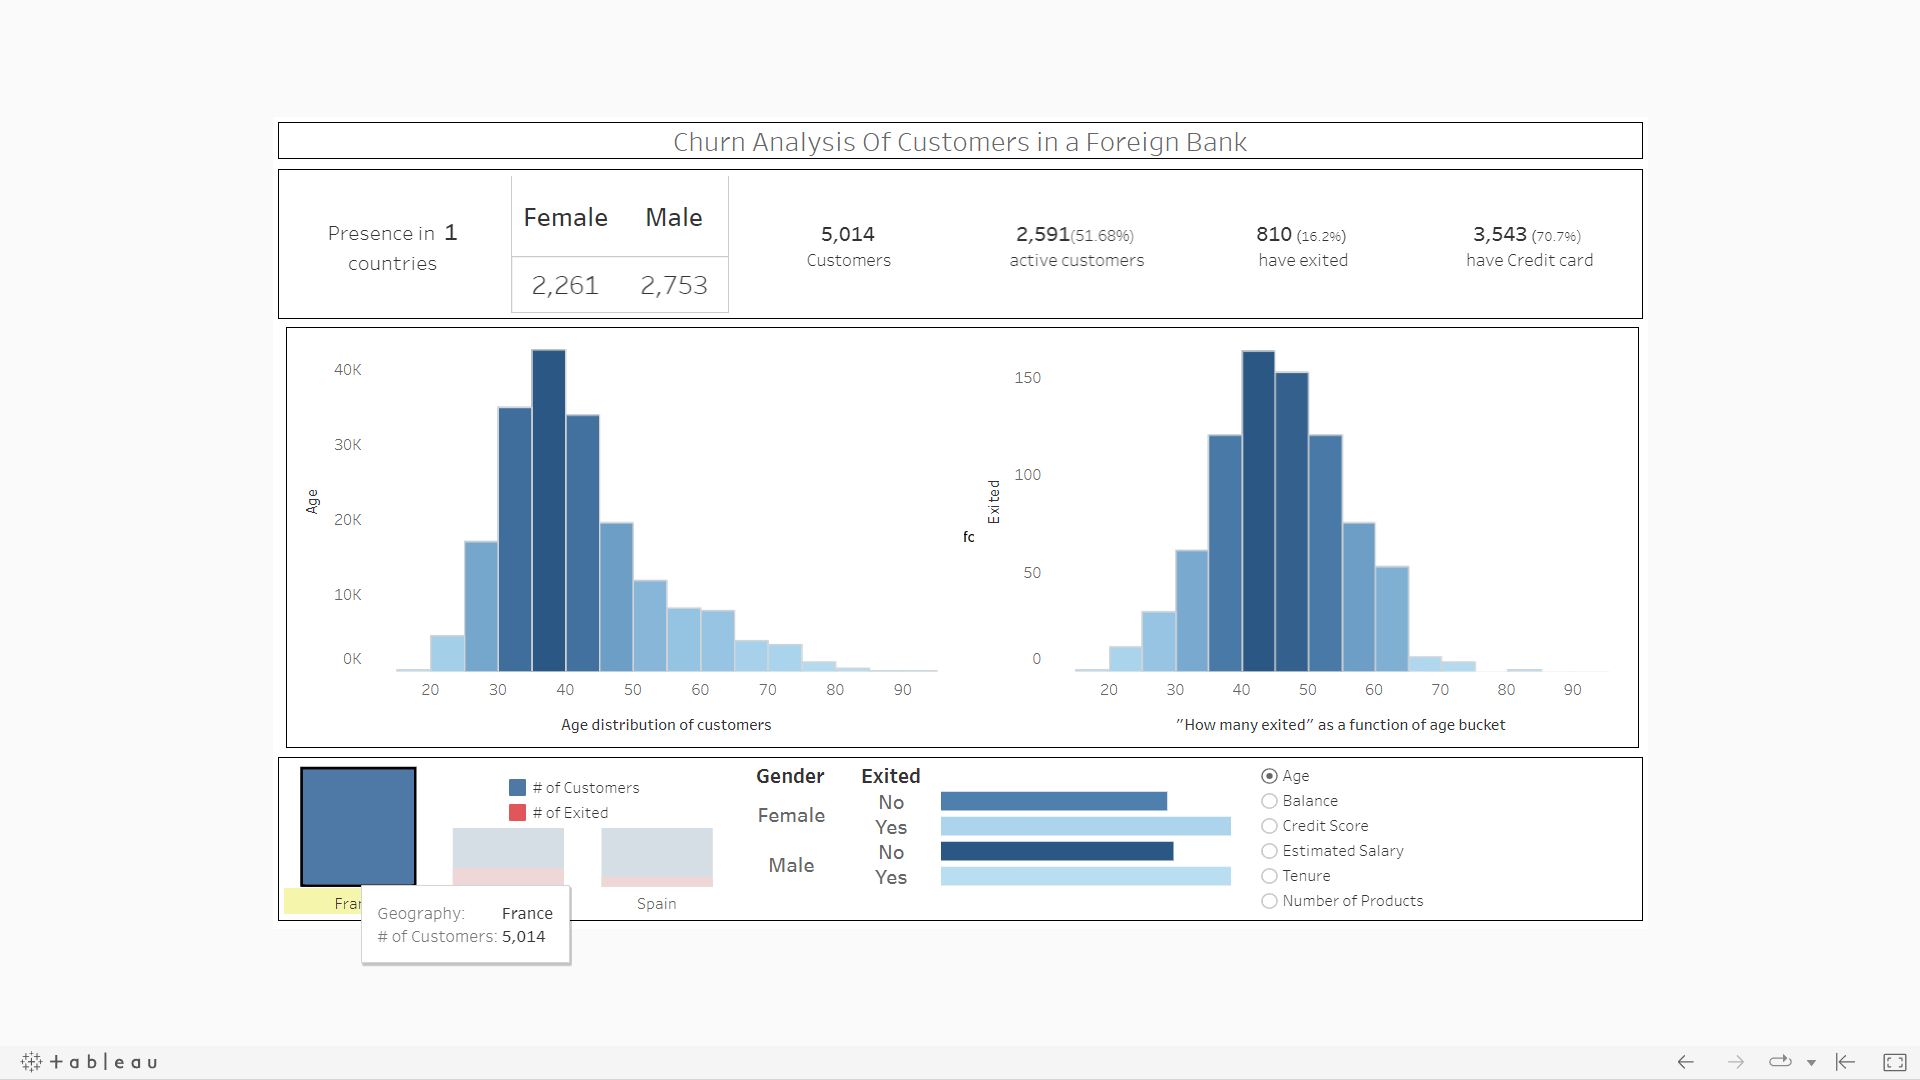

The page's visual inventory and layout, read from the dashboard file:
{"tool":"tableau","page":{"name":"Dashboard 1","canvas":[1100,650],"ordinal":0},"visuals":[{"type":"text","box":[0,0,1100,38]},{"type":"worksheet","title":"# of countries","mark":"Automatic","box":[5,43,182,118]},{"type":"worksheet","title":"Gender","mark":"Automatic","cols":["Gender"],"box":[187,43,182,118]},{"type":"worksheet","title":"Customers","mark":"Automatic","box":[369,43,182,118]},{"type":"worksheet","title":"Active customers","mark":"Automatic","box":[551,43,182,118]},{"type":"worksheet","title":"exited  customers ","mark":"Automatic","box":[733,43,181,118]},{"type":"worksheet","title":"Credit card","mark":"Automatic","box":[914,43,181,118]},{"type":"worksheet","title":"Age wise","mark":"Automatic","rows":["Age"],"cols":["Age (bin)"],"box":[12,169,545,335]},{"type":"worksheet","title":"Exited vs age","mark":"Automatic","rows":["Exited"],"cols":["Age (bin)"],"box":[557,169,535,335]},{"type":"worksheet","box":[0,325,1100,325]},{"type":"worksheet","title":"Exited country wise","mark":"Bar","rows":["ChurnAnalysisData_51BE9C0CF510447EA886F9E47D882F68","Exited"],"cols":["Geography"],"box":[5,513,366,129]},{"type":"worksheet","title":"Gender wise exited","mark":"Automatic","rows":["Gender","Exited"],"cols":["Calculation_878201944899014657"],"box":[371,513,412,129]},{"type":"parameter","param":"[Parameters].[Parameter 1]","box":[783,513,312,129]},{"type":"legend","title":"Exited country wise","param":"[federated.0fxd9ov0lvobej0zmb3kq00man53].[:Measure Names]","box":[186,527,193,58]}]}

Visuals, with their boxes on the page's 1100x650 design canvas (x1, y1, x2, y2). These are canvas units, not pixel positions in the 1920x1080 screenshot, which may show the page scaled, cropped or inside an application window:
text: Rect(0, 0, 1100, 38)
"# of countries" worksheet: Rect(5, 43, 187, 161)
"Gender" worksheet: Rect(187, 43, 369, 161)
"Customers" worksheet: Rect(369, 43, 551, 161)
"Active customers" worksheet: Rect(551, 43, 733, 161)
"exited  customers " worksheet: Rect(733, 43, 914, 161)
"Credit card" worksheet: Rect(914, 43, 1095, 161)
"Age wise" worksheet: Rect(12, 169, 557, 504)
"Exited vs age" worksheet: Rect(557, 169, 1092, 504)
worksheet: Rect(0, 325, 1100, 650)
"Exited country wise" worksheet (Bar marks): Rect(5, 513, 371, 642)
"Gender wise exited" worksheet: Rect(371, 513, 783, 642)
parameter: Rect(783, 513, 1095, 642)
"Exited country wise" legend: Rect(186, 527, 379, 585)
